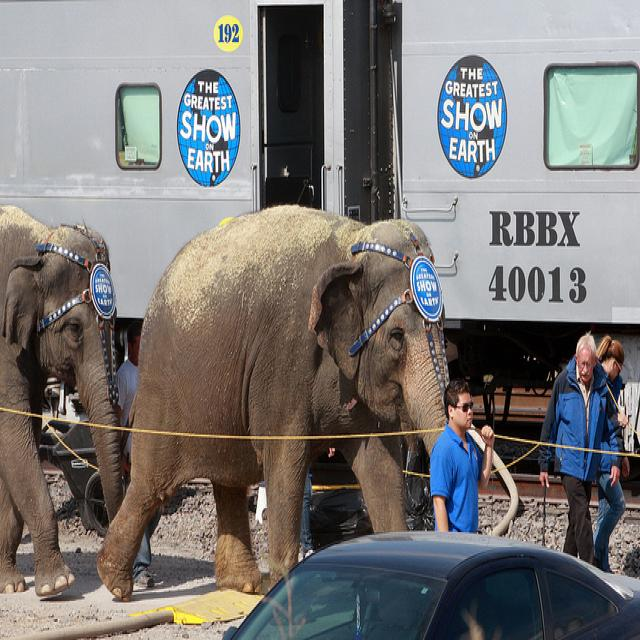Vehicle: (234, 528, 640, 632)
